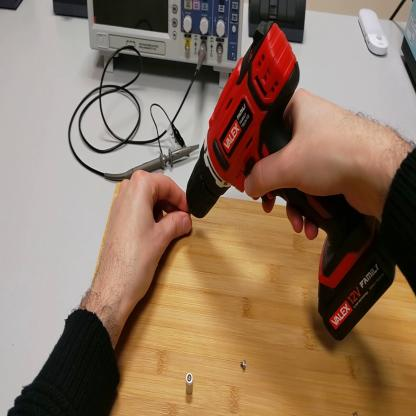electric screwdriver: (185, 23, 394, 343)
hand: (245, 90, 376, 234), (96, 171, 191, 311)
oscilloscope: (88, 2, 245, 88)
socket: (53, 1, 88, 23), (2, 1, 23, 13)
welder station: (402, 2, 416, 92)
working area: (97, 178, 416, 414)
